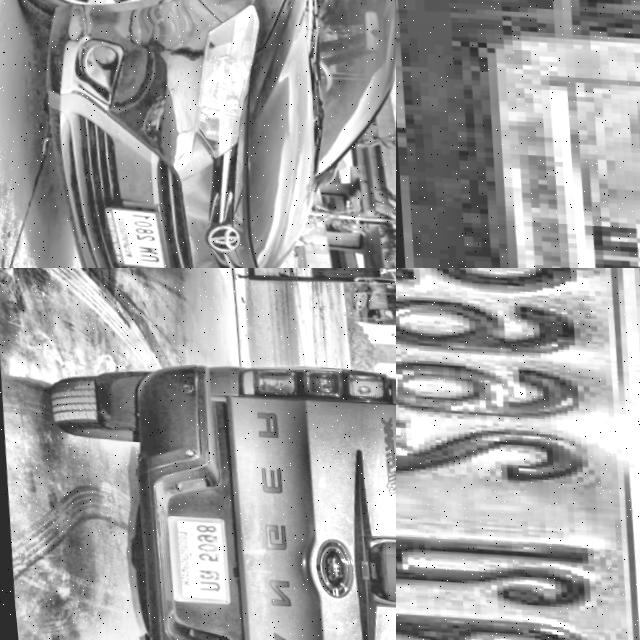license-plate: (396, 268, 640, 640), (396, 0, 640, 268), (153, 513, 231, 604), (85, 199, 163, 268)
